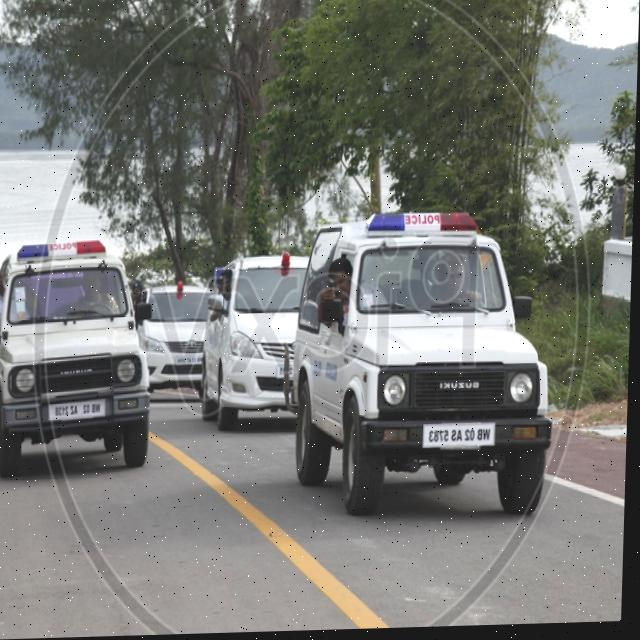plate: (424, 421, 501, 455), (47, 397, 108, 425), (175, 351, 205, 369)
